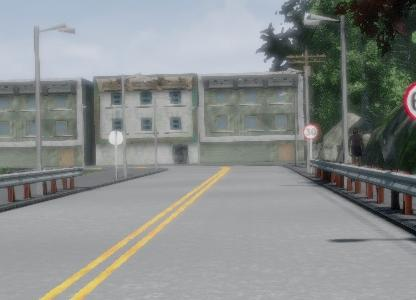Speed_60: (403, 80, 416, 123)
